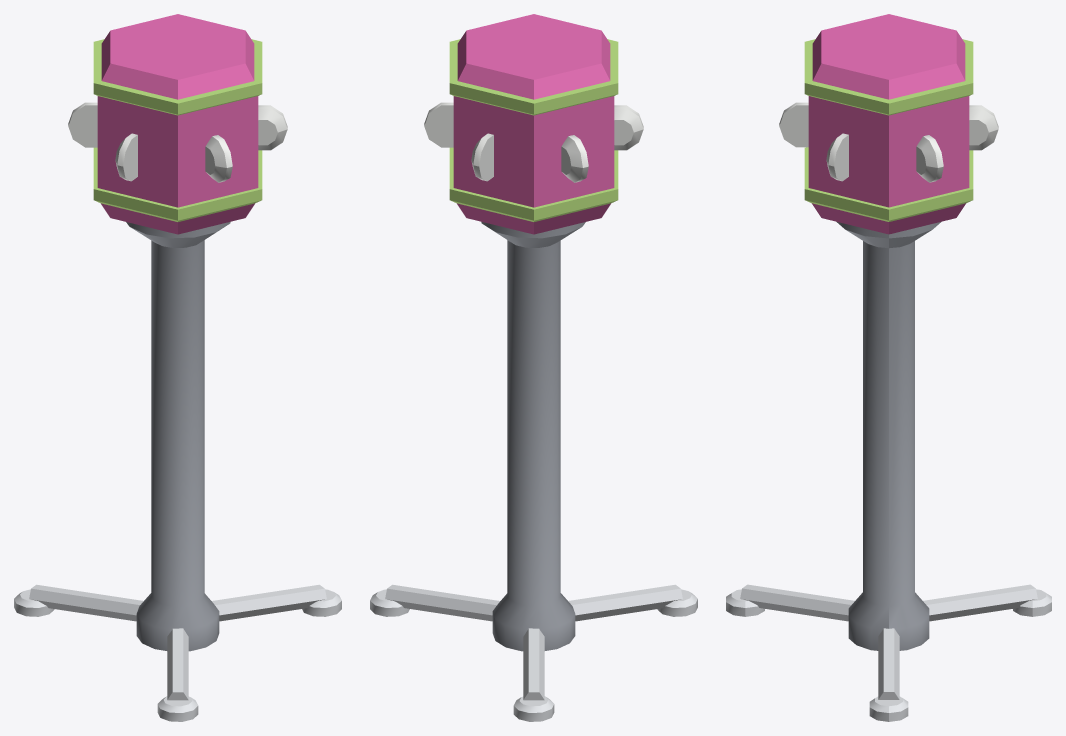
Rendered from laser-tag-arena-and-activity-centre-target-pod-on-stan-6d1db8ad__34479.glb.
3 views of the same model, side by side, from view 1: azimuth 30°, elevation 25°; view 2: azimuth 150°, elevation 25°; view 3: azimuth 270°, elevation 25° (orthographic).
Parts seen in each view (by area): view 1: target-pod-on-stand, pod, pod/lime, pod/pale; view 2: target-pod-on-stand, pod, pod/lime, pod/pale; view 3: target-pod-on-stand, pod, pod/lime, pod/pale.
Part boxes in pixels (x1,y1,x2,y2): target-pod-on-stand: (14,222,341,721); pod: (97,14,258,234); pod/lime: (93,39,262,221); pod/pale: (68,102,287,182); target-pod-on-stand: (370,222,697,721); pod: (453,14,614,234); pod/lime: (449,39,618,221); pod/pale: (424,102,643,182); target-pod-on-stand: (726,221,1051,721); pod: (808,14,969,234); pod/lime: (804,39,973,221); pod/pale: (779,102,998,182).
Bounding box in the file's own units: 0.594 × 1.35 × 0.6688.
